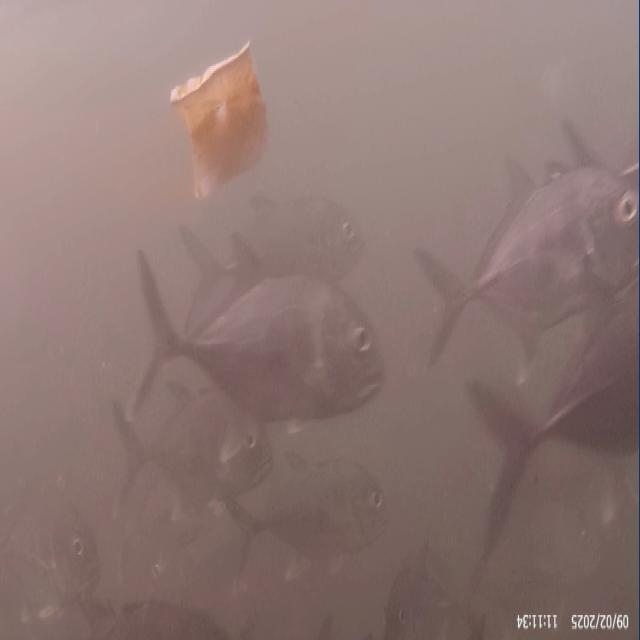ikan: (413, 116, 638, 387), (462, 289, 638, 597), (129, 223, 386, 431), (110, 374, 272, 520), (219, 449, 389, 587), (1, 481, 101, 626)
